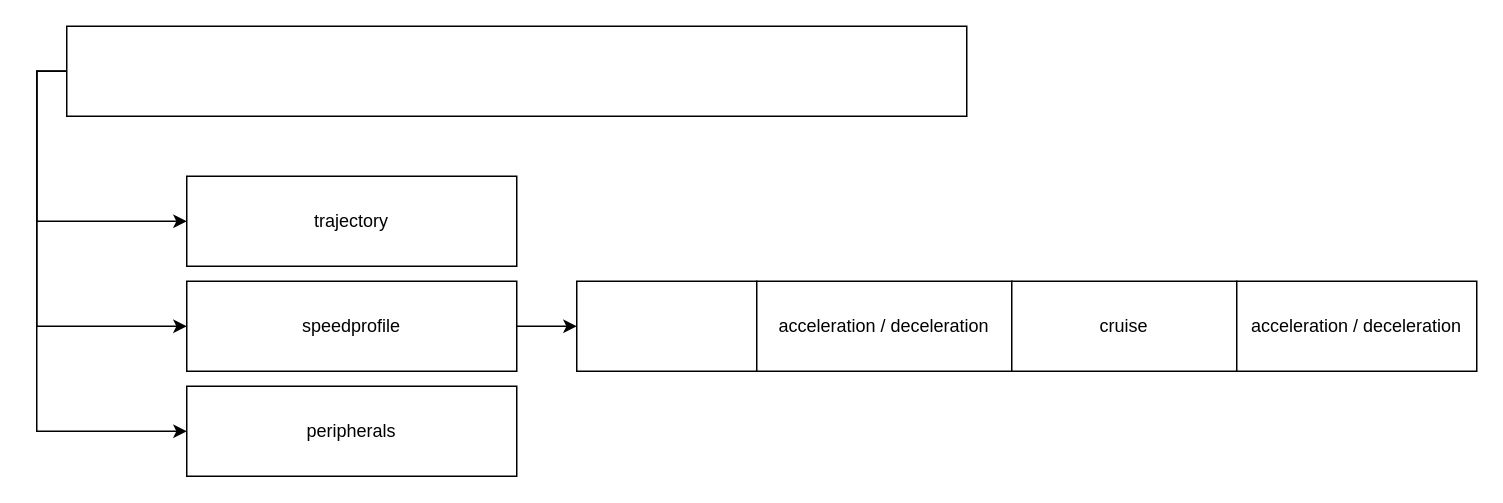
This 1503x503 diagram has some shape labels left out. Each missing label, with the centre of its shape:
motionItem: [516,70]
passed: [666,325]
